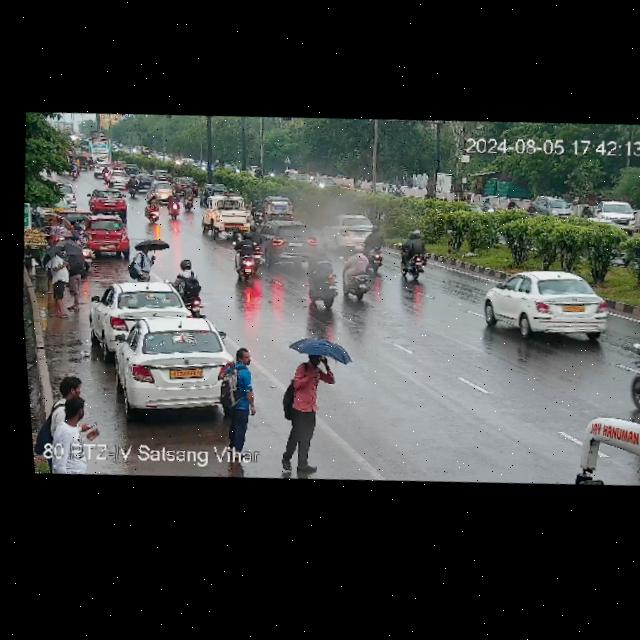bus: (563, 368, 640, 491), (84, 132, 114, 163)
car: (100, 305, 243, 419), (481, 259, 616, 345), (86, 273, 192, 347), (262, 216, 320, 267), (198, 191, 257, 239), (318, 210, 371, 252), (82, 215, 132, 258), (88, 185, 132, 216), (261, 194, 298, 222), (146, 179, 173, 200), (199, 181, 230, 199), (173, 174, 199, 192), (107, 168, 128, 187), (151, 168, 175, 183), (135, 172, 154, 189), (94, 161, 112, 176), (123, 162, 141, 174), (111, 160, 128, 170)
motorcycle: (391, 226, 437, 282), (172, 257, 214, 318), (224, 226, 272, 279), (617, 325, 640, 426), (304, 246, 340, 310), (338, 240, 372, 302), (358, 228, 395, 274), (143, 193, 161, 224), (164, 192, 185, 218), (180, 183, 199, 209), (126, 173, 139, 197), (68, 163, 81, 181), (102, 165, 110, 180)
person: (267, 354, 348, 480), (214, 343, 266, 454), (45, 246, 75, 322), (44, 374, 91, 422), (53, 395, 93, 443), (127, 244, 156, 282), (39, 235, 56, 293), (66, 274, 82, 312), (55, 218, 67, 229), (46, 218, 55, 226)
